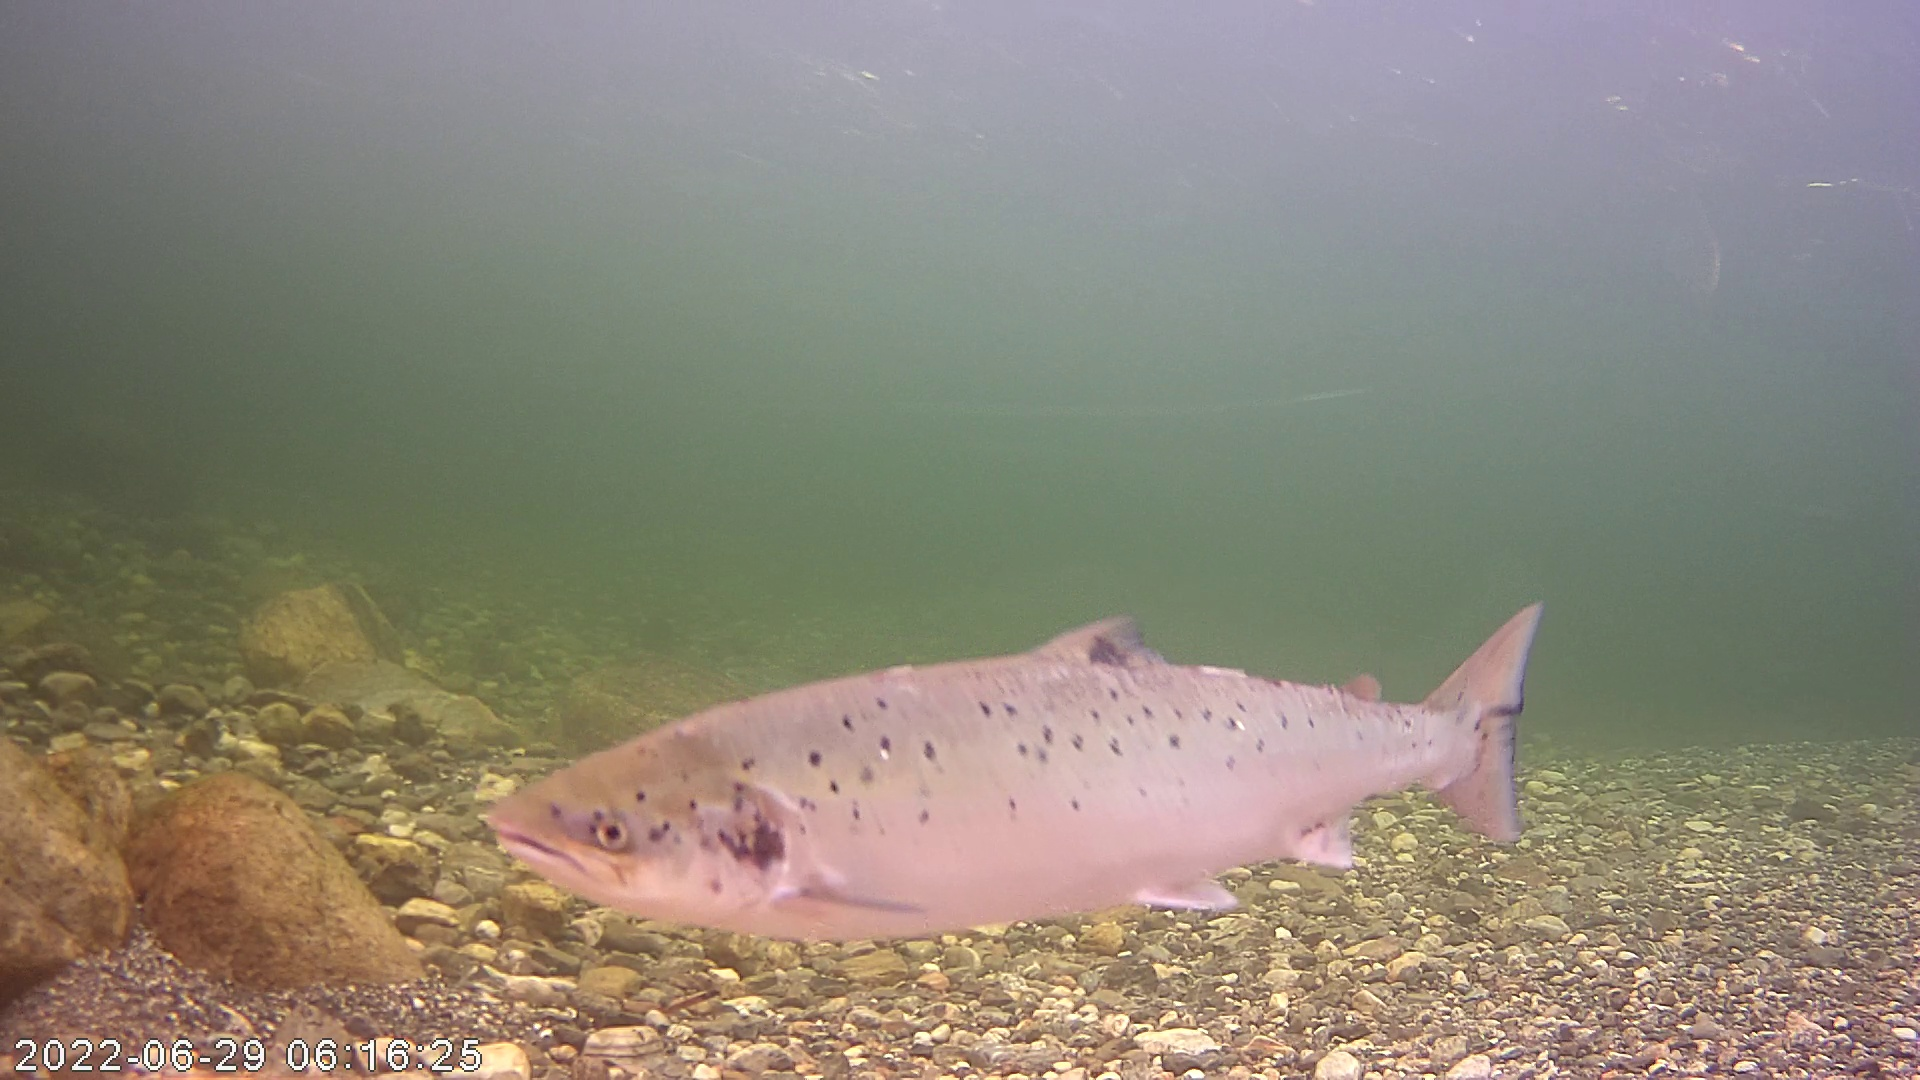salmon: (472, 502, 1543, 964)
